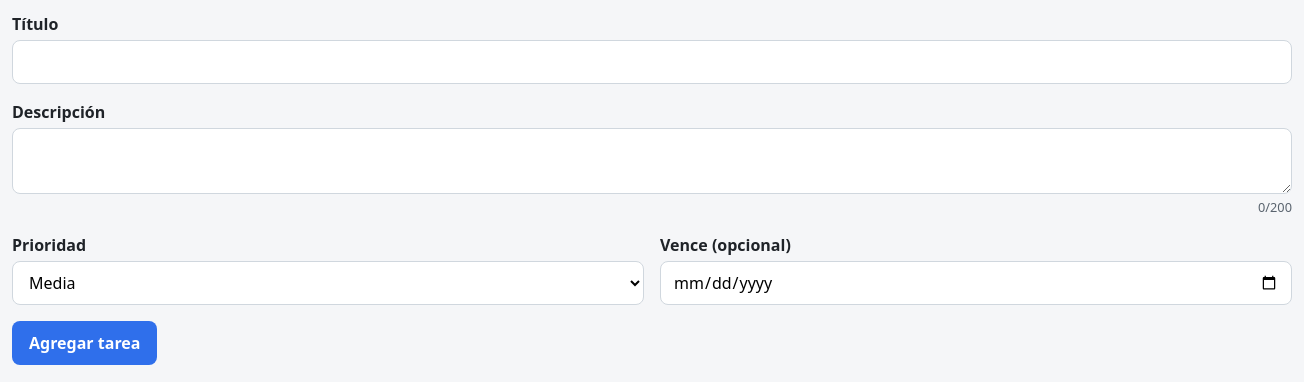
Scenario: <TodoForm /> › muestra "Guardando…" y deshabilita el botón mientras se guarda
This screenshot has width=1304, height=382.
Type "Comprar mate" into the field labelled "Título" at (652, 62), box [12,40,1292,84]
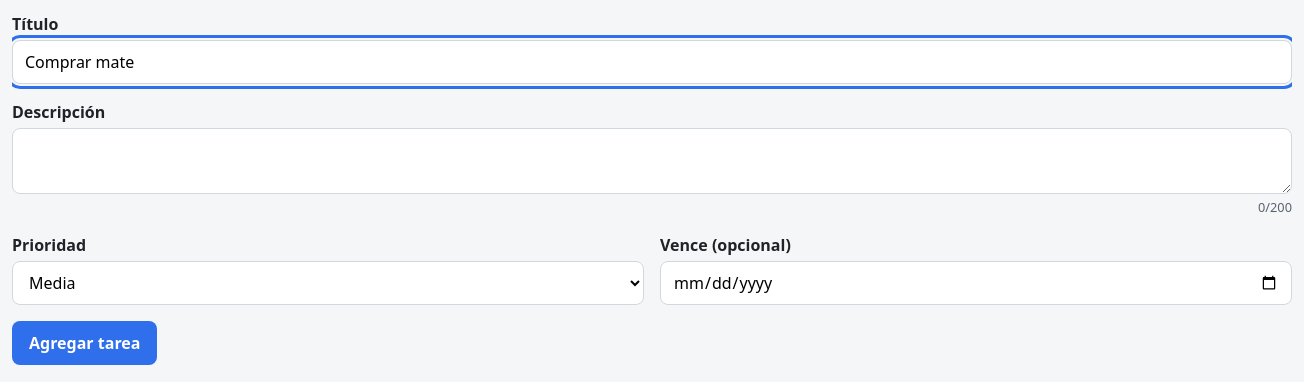
Click the button "Agregar tarea" at (85, 343), box [12,321,158,365]
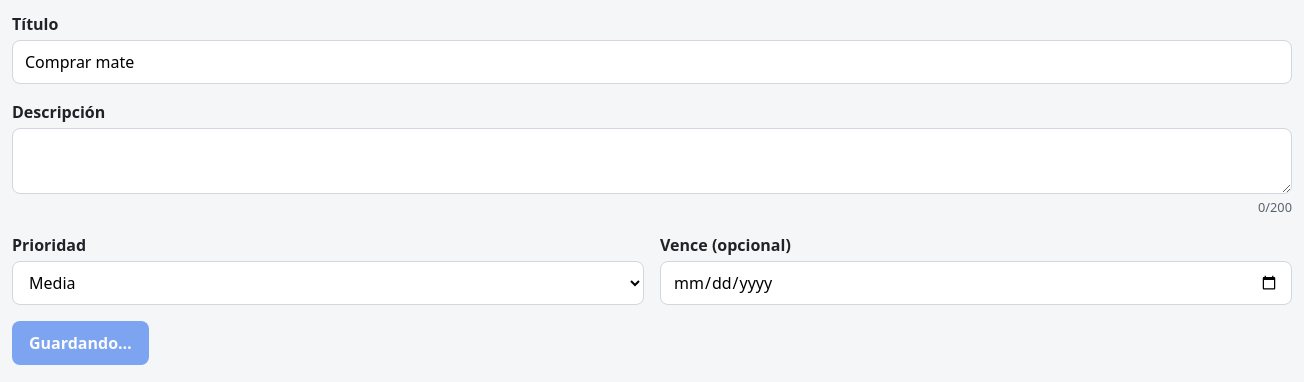
Result: the button "Guardando…" is disabled at [12,321,149,365]
